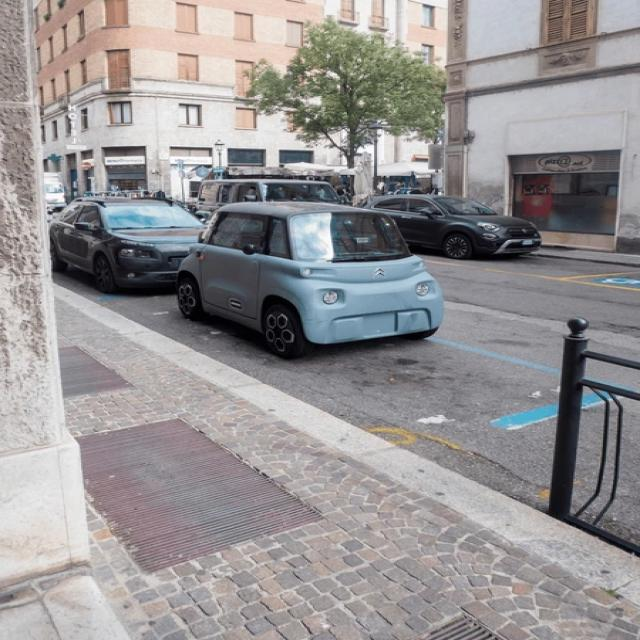citroen: (362, 264, 394, 286)
